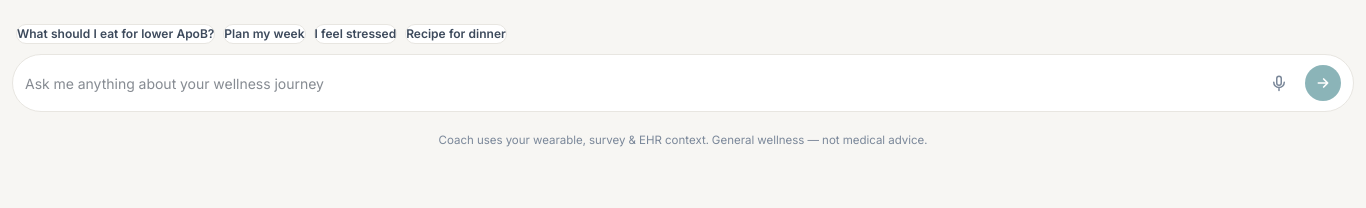
it: CoachChat › sends a message and appends it as a user bubble
Type "How is my sleep?" into the field with placeholder "Ask me anything about your wellness journey".
click(639, 83); type("How is my sleep?")  # box [25,72,1253,94]
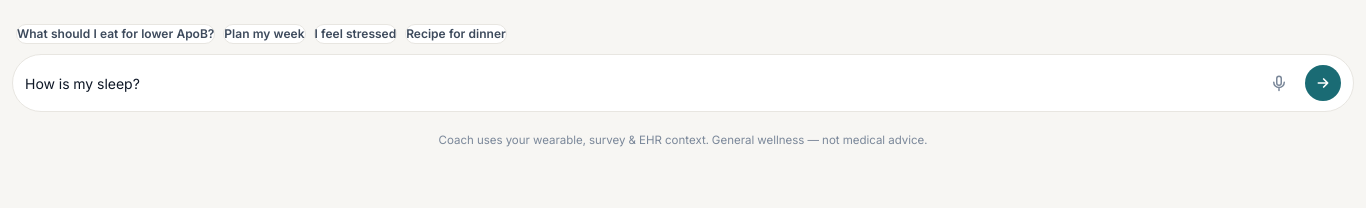
Submit the form with placeholder "ask me anything", box [12,54,1354,112]
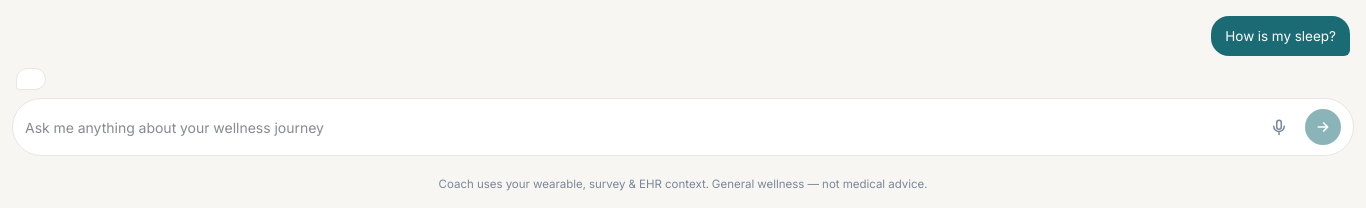
Expected: the text "How is my sleep?" is shown, [1211,16,1350,56]
